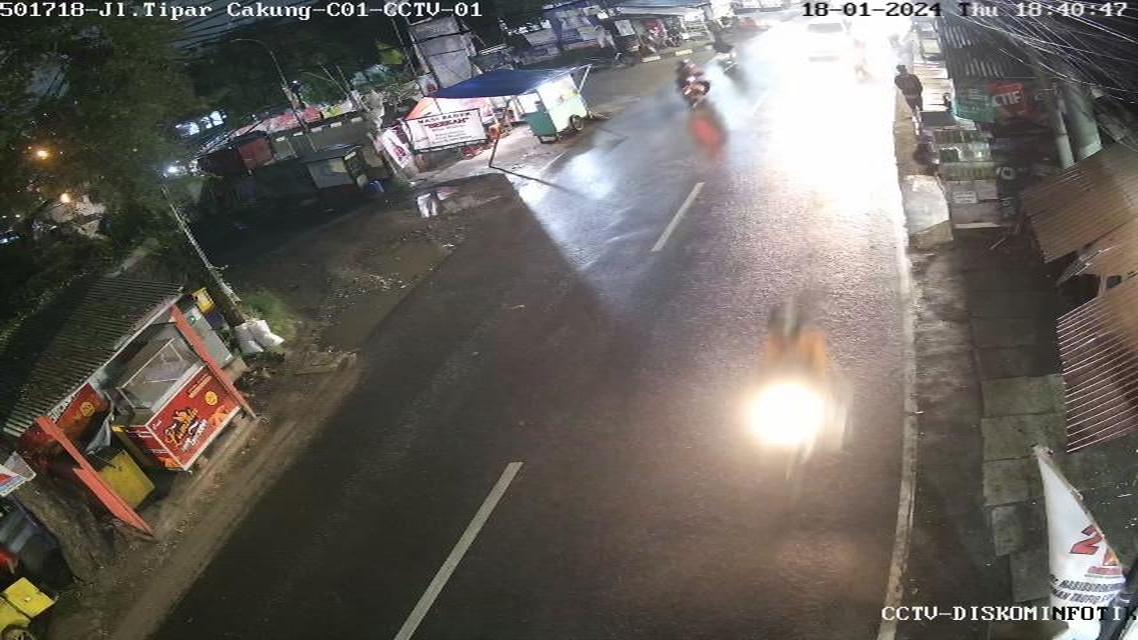Gerobak: (71, 329, 265, 504), (374, 96, 504, 186), (283, 128, 402, 213), (516, 72, 603, 140)
